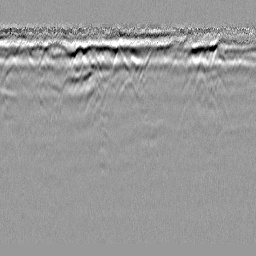cavity: (118, 75, 139, 100)
